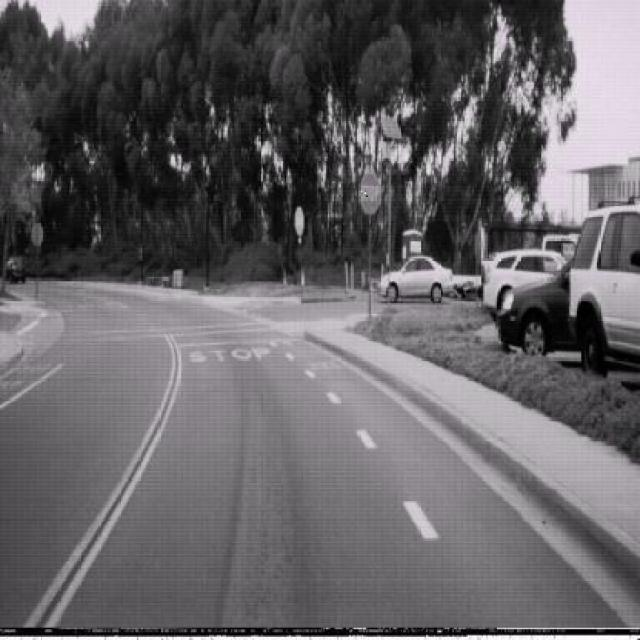stop: (358, 169, 382, 216), (294, 206, 304, 237)
